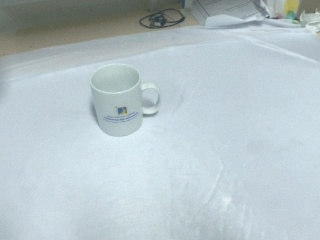cup: (89, 62, 162, 138)
